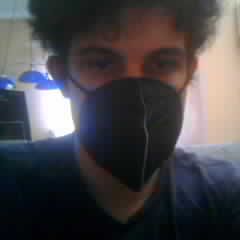with_mask: (68, 7, 189, 183)
